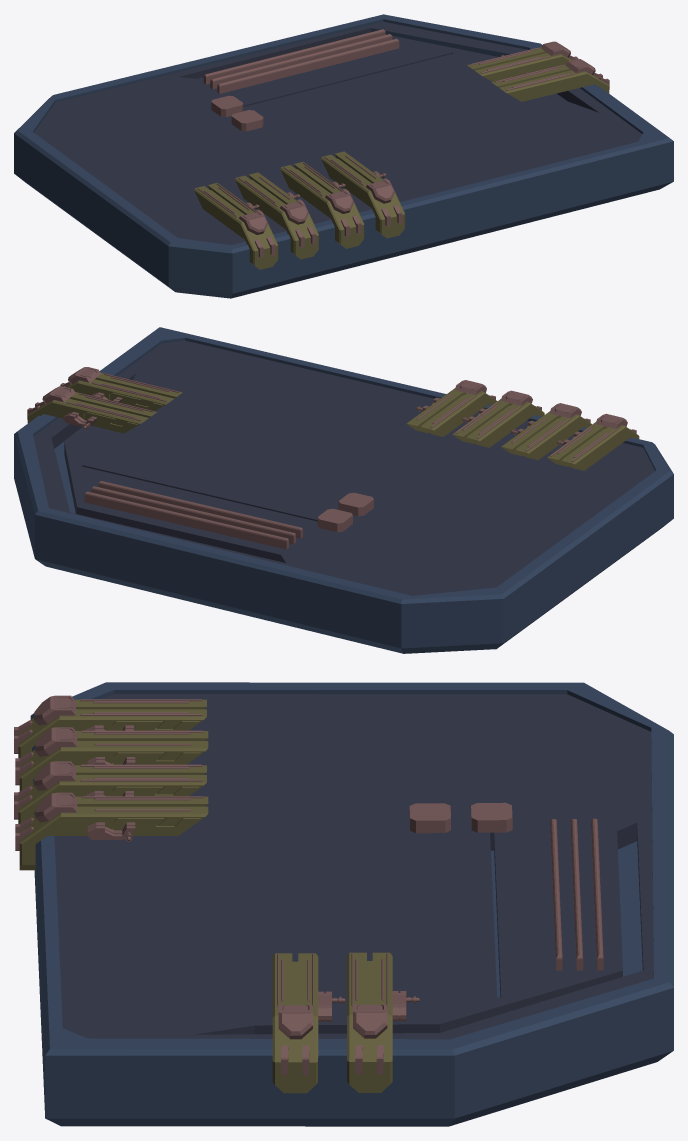
File: 大门第二层-锅炉_002.fbx
The picture shows the model from 3 angles, top to bottom: view 1: azimuth 30°, elevation 25°; view 2: azimuth 150°, elevation 25°; view 3: azimuth 270°, elevation 25°; orthographic projection. The views are drawn at different scales.
Parts seen in each view (by area): view 1: 大门第二层-锅炉.002; view 2: 大门第二层-锅炉.002; view 3: 大门第二层-锅炉.002.
Part boxes in pixels (box(x1,y1,x2,y2)): 大门第二层-锅炉.002: box(14, 14, 673, 298); 大门第二层-锅炉.002: box(14, 327, 673, 653); 大门第二层-锅炉.002: box(14, 682, 673, 1126).
Bounding box in the file's own units: 3.63 × 0.509 × 2.67.
